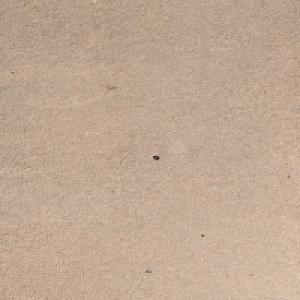Nut: (151, 154, 158, 158)
